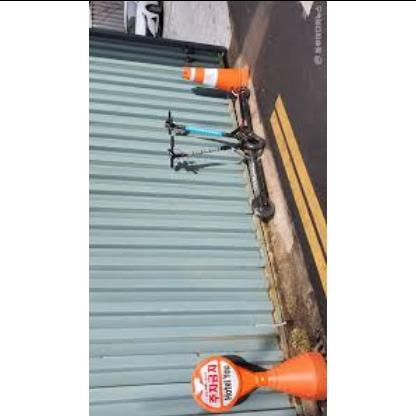bike: (164, 65, 275, 222)
traffic cone: (190, 352, 327, 413)
